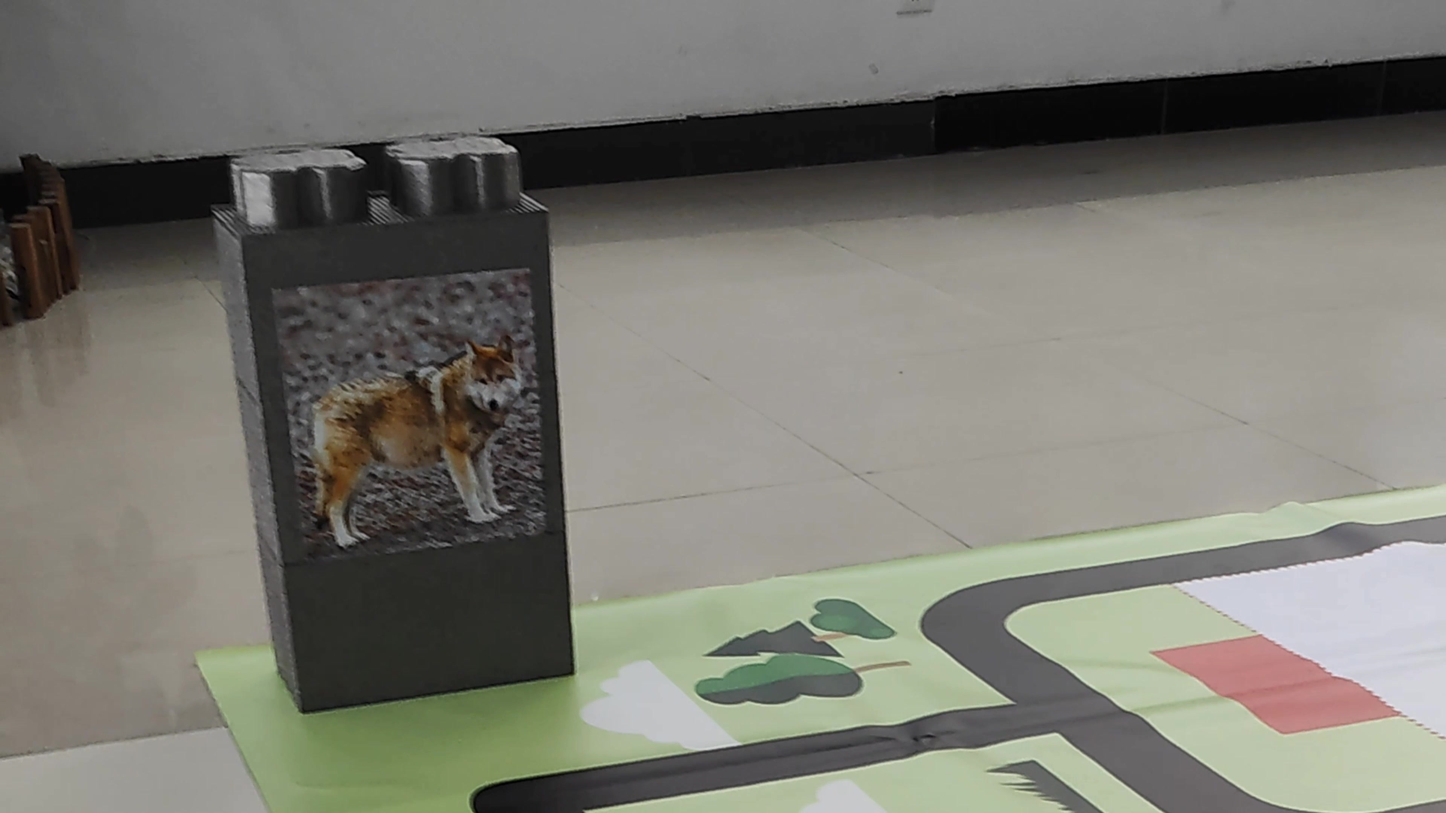wolf: (267, 273, 543, 522)
